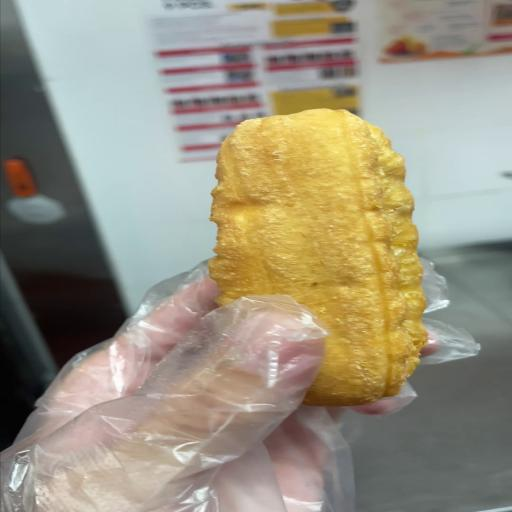brand_golden_good: (210, 109, 427, 406)
